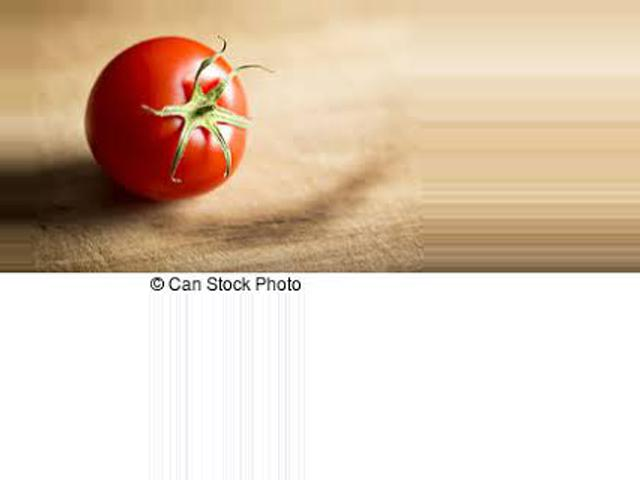tomato: (86, 39, 250, 199)
